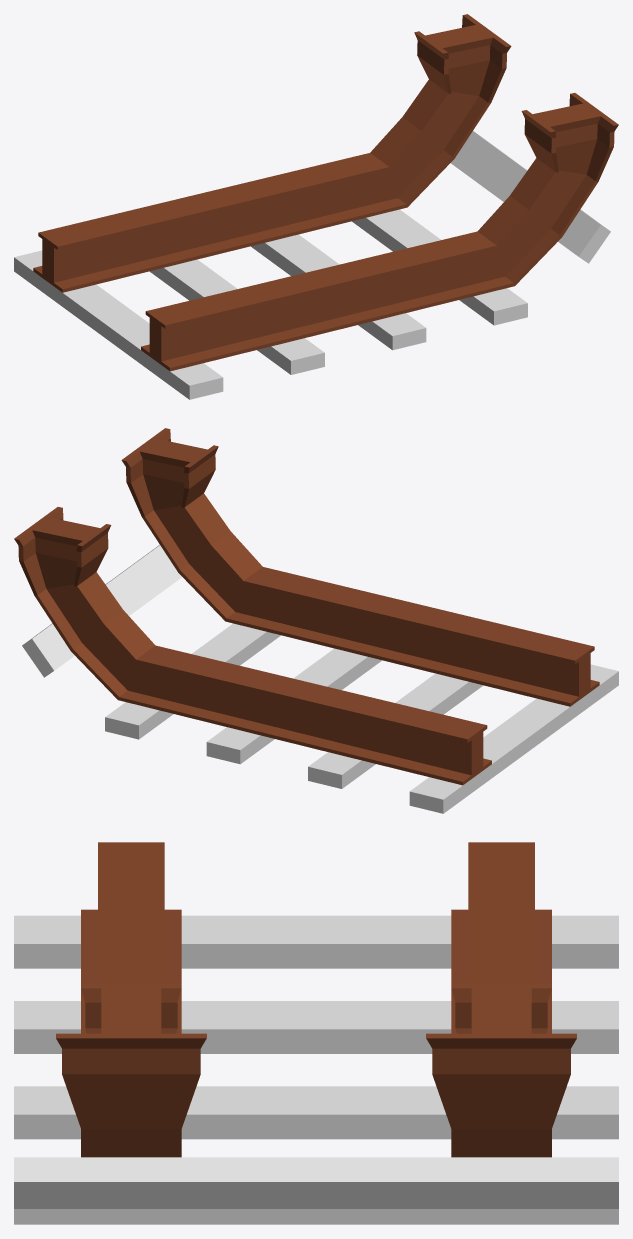
The model's file is RailwayEnd.fbx.
3 views of the same model, one above another, from view 1: azimuth 30°, elevation 25°; view 2: azimuth 150°, elevation 25°; view 3: azimuth 270°, elevation 25° (orthographic). The views are drawn at different scales.
Visible parts, largest first — view 1: Rail; view 2: Rail; view 3: Rail.
Part boxes in pixels (x1,y1,x2,y2): Rail: (14,14,618,399); Rail: (14,428,618,813); Rail: (14,842,618,1224).
Bounding box in the file's own units: 2611 × 906 × 1797.
